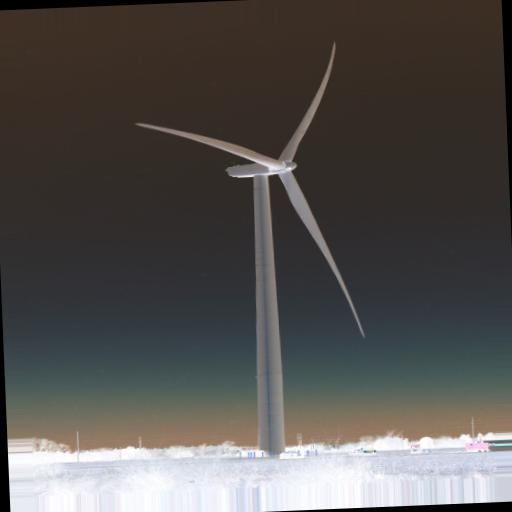wind turbine: (133, 41, 368, 454)
